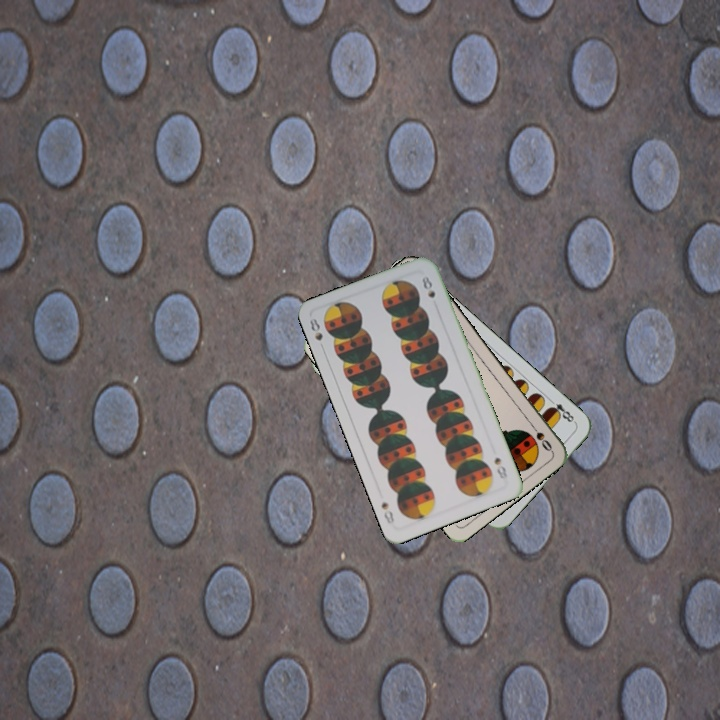E8: (545, 395, 578, 426)
S8: (305, 314, 327, 353), (490, 453, 510, 483)
SO: (526, 418, 555, 454)
